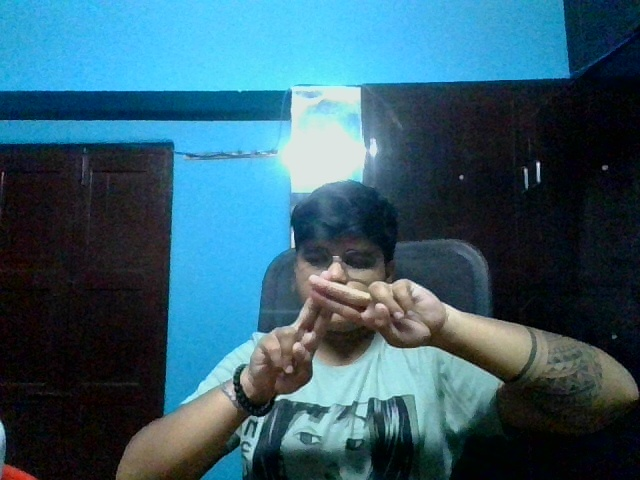F: (240, 271, 446, 411)
